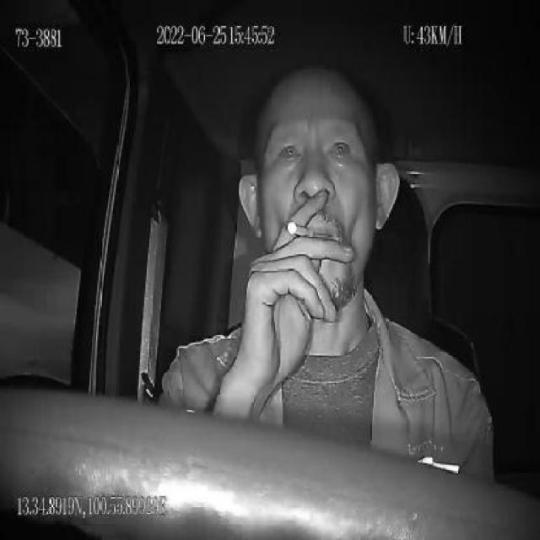smoking: (285, 218, 316, 238)
